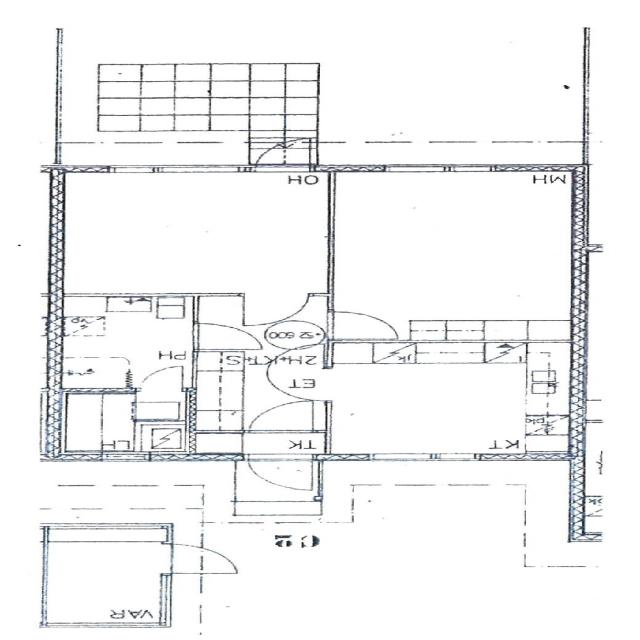door: (258, 368, 336, 401), (248, 454, 313, 491), (161, 544, 238, 574), (243, 293, 308, 326), (250, 401, 314, 433), (326, 312, 394, 338), (255, 140, 310, 172), (192, 324, 252, 349), (140, 368, 182, 392)
